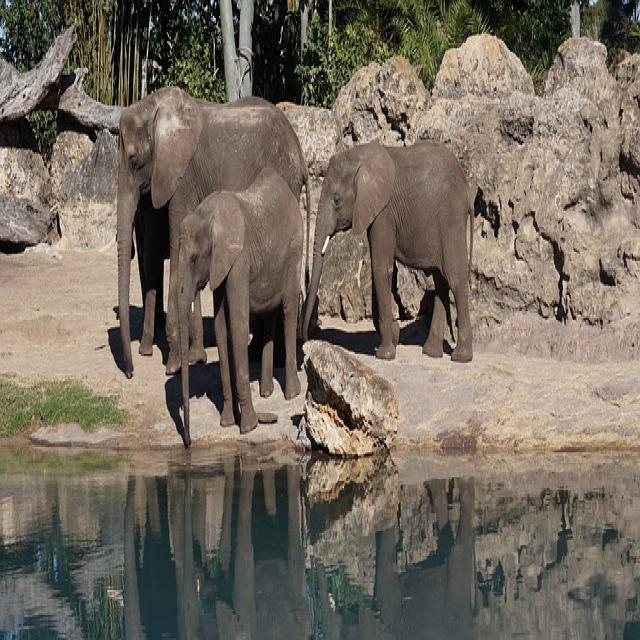FIL: (120, 108, 304, 370), (302, 134, 479, 364), (176, 172, 302, 450)
